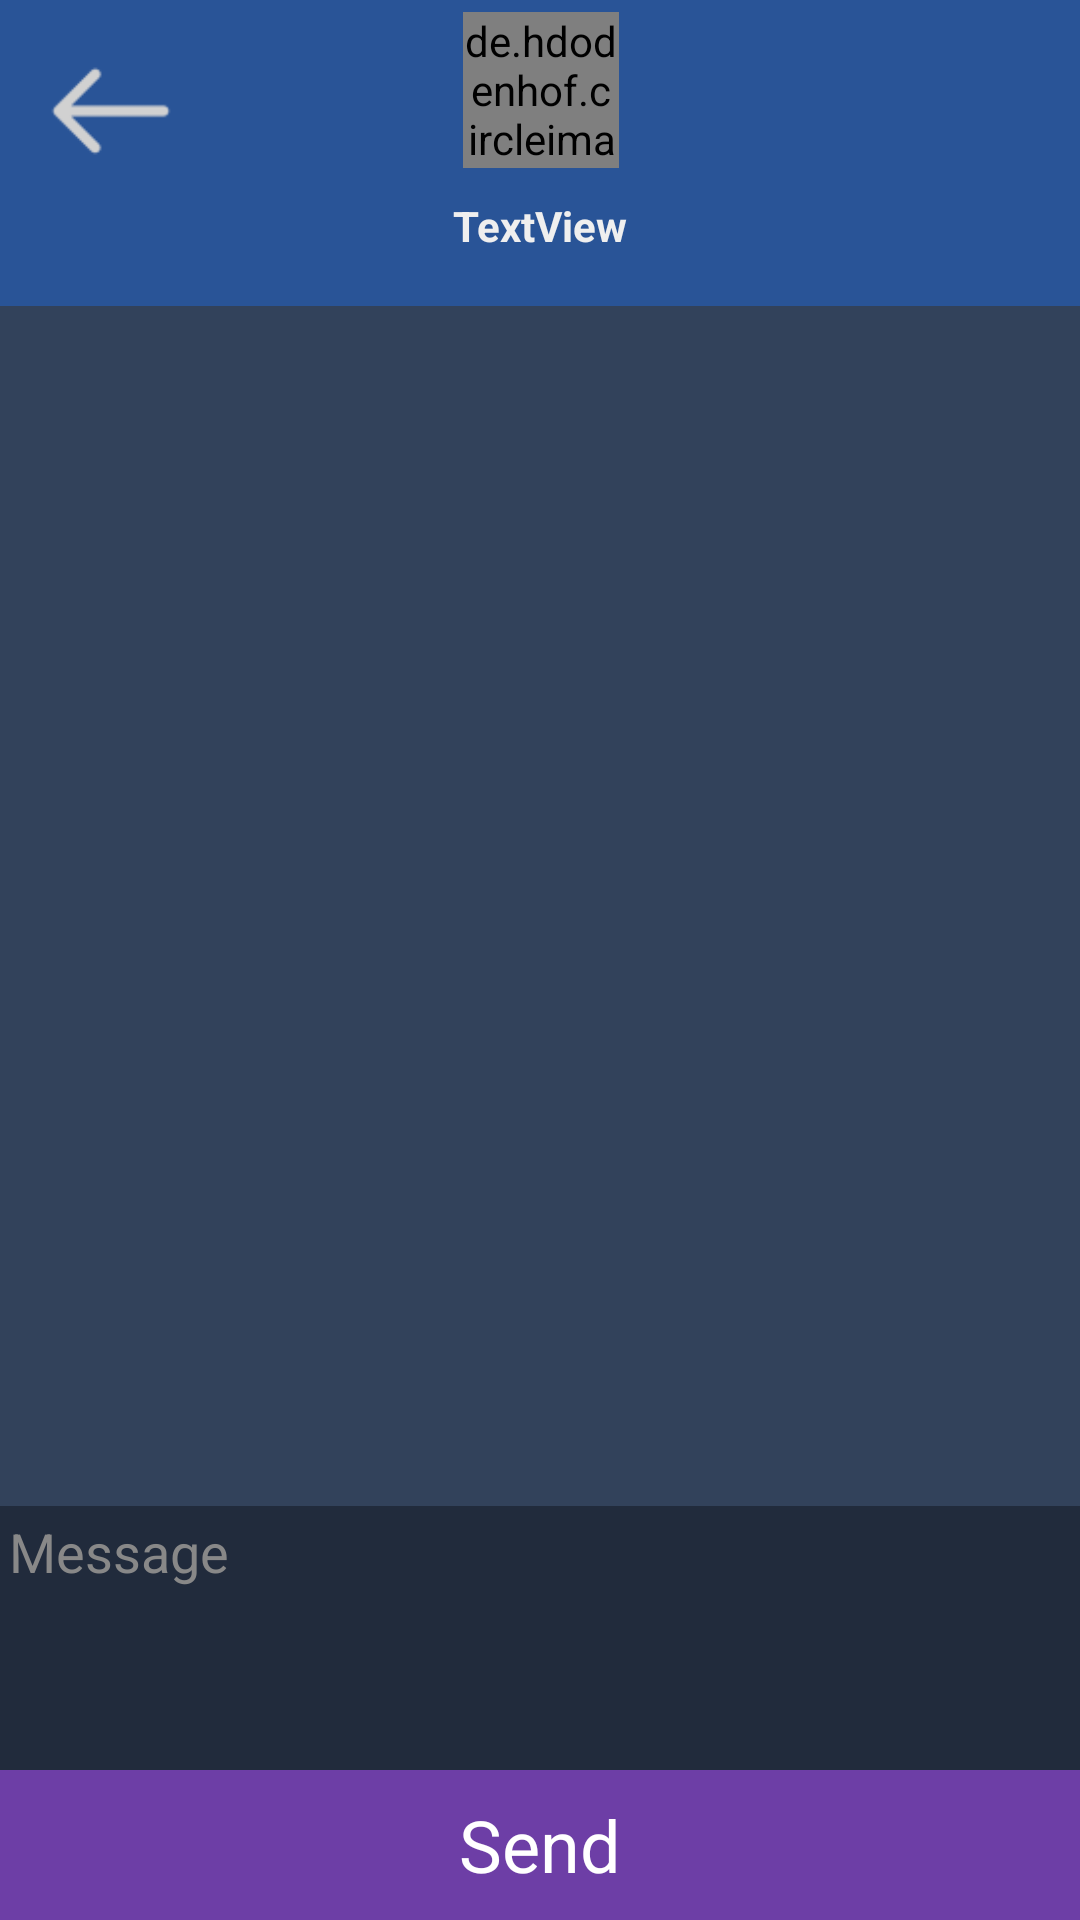

Named icons in this screenshot (1080 × 1920) and their bounding boxes, (x1, y1, x2, y2):
back: (52, 68, 170, 154)
